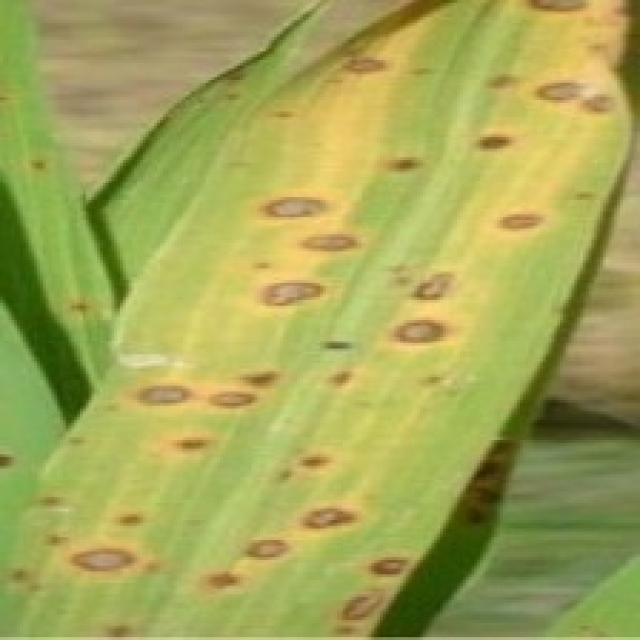Brown_Spot: (462, 424, 517, 532), (258, 267, 332, 320), (250, 187, 335, 232), (331, 578, 391, 640), (117, 374, 200, 416), (68, 537, 139, 580), (513, 0, 601, 33), (297, 226, 361, 270), (387, 318, 455, 357), (296, 499, 358, 537), (238, 530, 296, 567), (413, 260, 460, 305), (494, 200, 548, 238), (530, 77, 588, 111), (336, 50, 390, 86), (163, 430, 223, 460), (208, 386, 257, 420), (581, 87, 621, 127), (2, 557, 38, 601), (383, 144, 428, 179), (234, 366, 285, 396), (206, 563, 244, 599), (367, 550, 412, 579), (484, 64, 526, 95), (297, 447, 336, 477), (473, 128, 512, 156), (37, 524, 74, 552), (109, 506, 150, 528), (30, 151, 54, 188), (99, 614, 132, 640), (422, 366, 448, 398), (210, 68, 256, 86), (274, 458, 301, 488), (324, 336, 359, 358), (68, 296, 97, 322), (407, 54, 436, 80), (327, 368, 361, 389), (0, 442, 20, 477), (39, 488, 64, 512), (272, 106, 302, 123), (66, 432, 83, 455)
